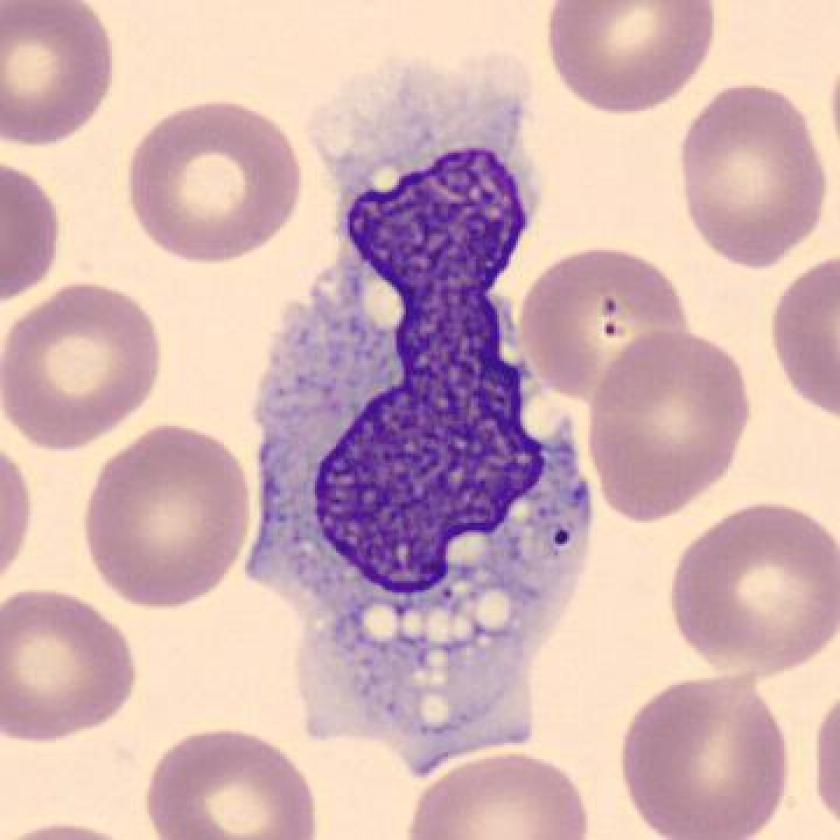monocyte: (220, 45, 617, 783)
